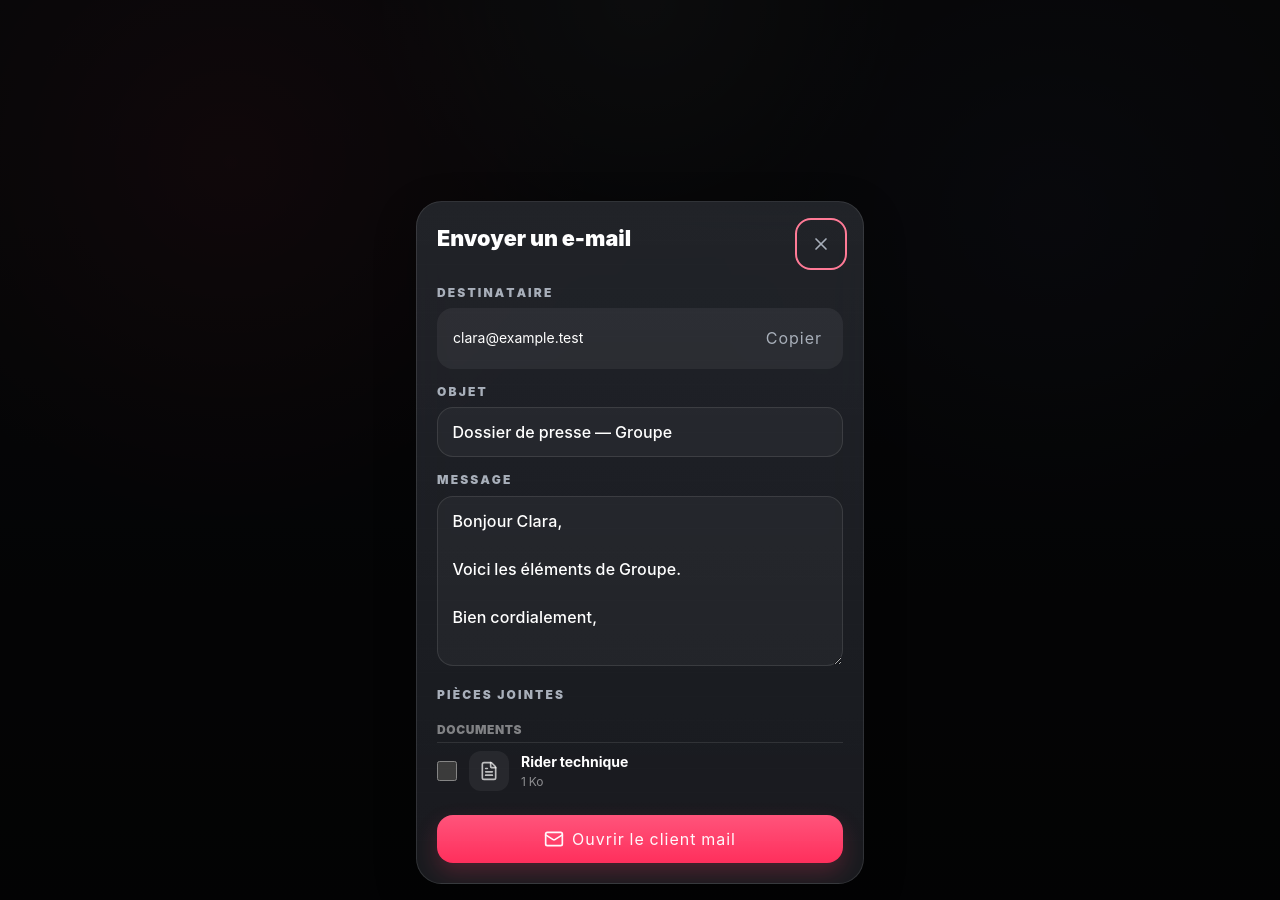
it: ContactEmailComposer › propose le lien EPK après un échec du partage natif
Click the checkbox labelled "Rider technique 1 Ko".
click(447, 771)  # box [437,761,457,781]
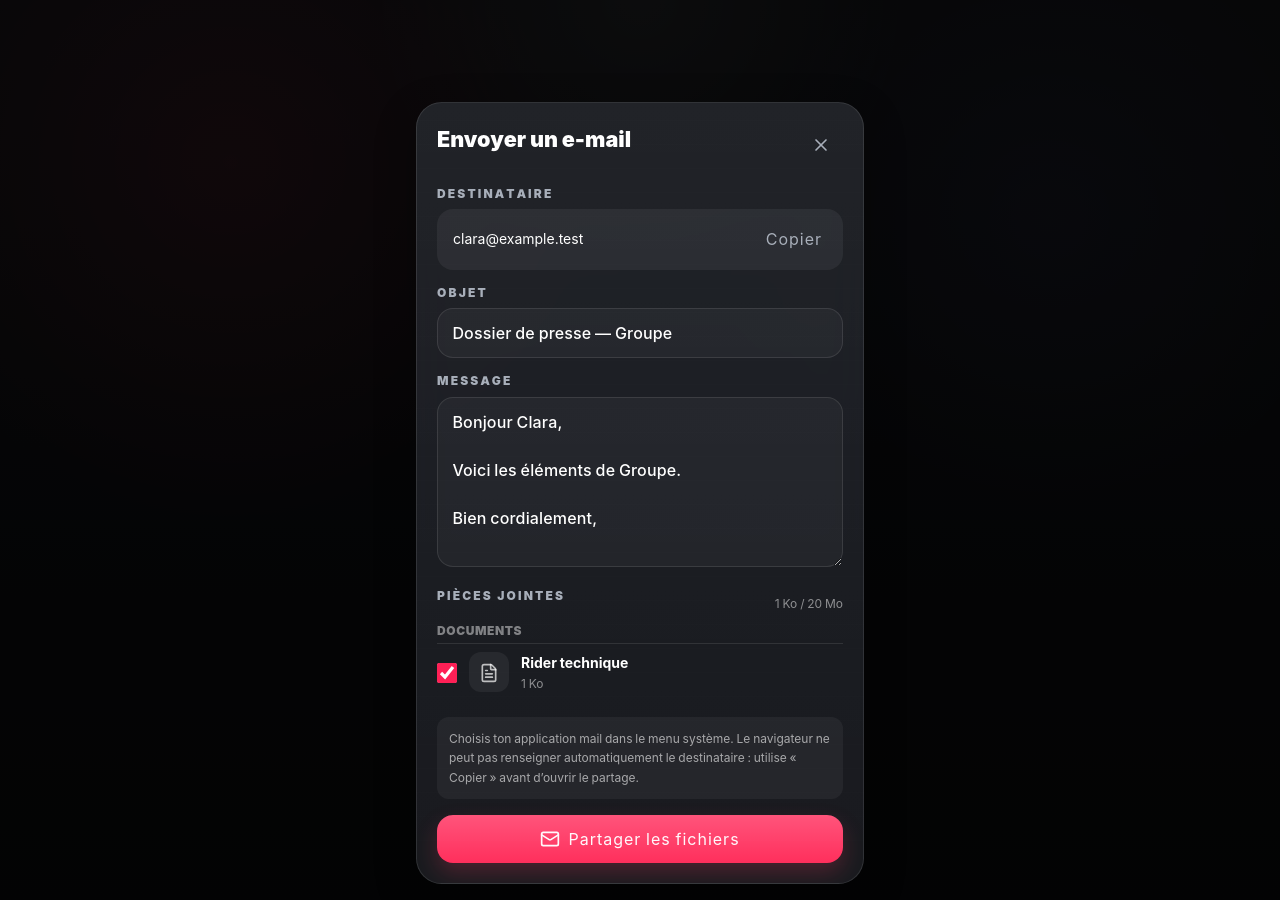
Click the button "Partager les fichiers".
click(640, 839)  # box [437,815,843,863]
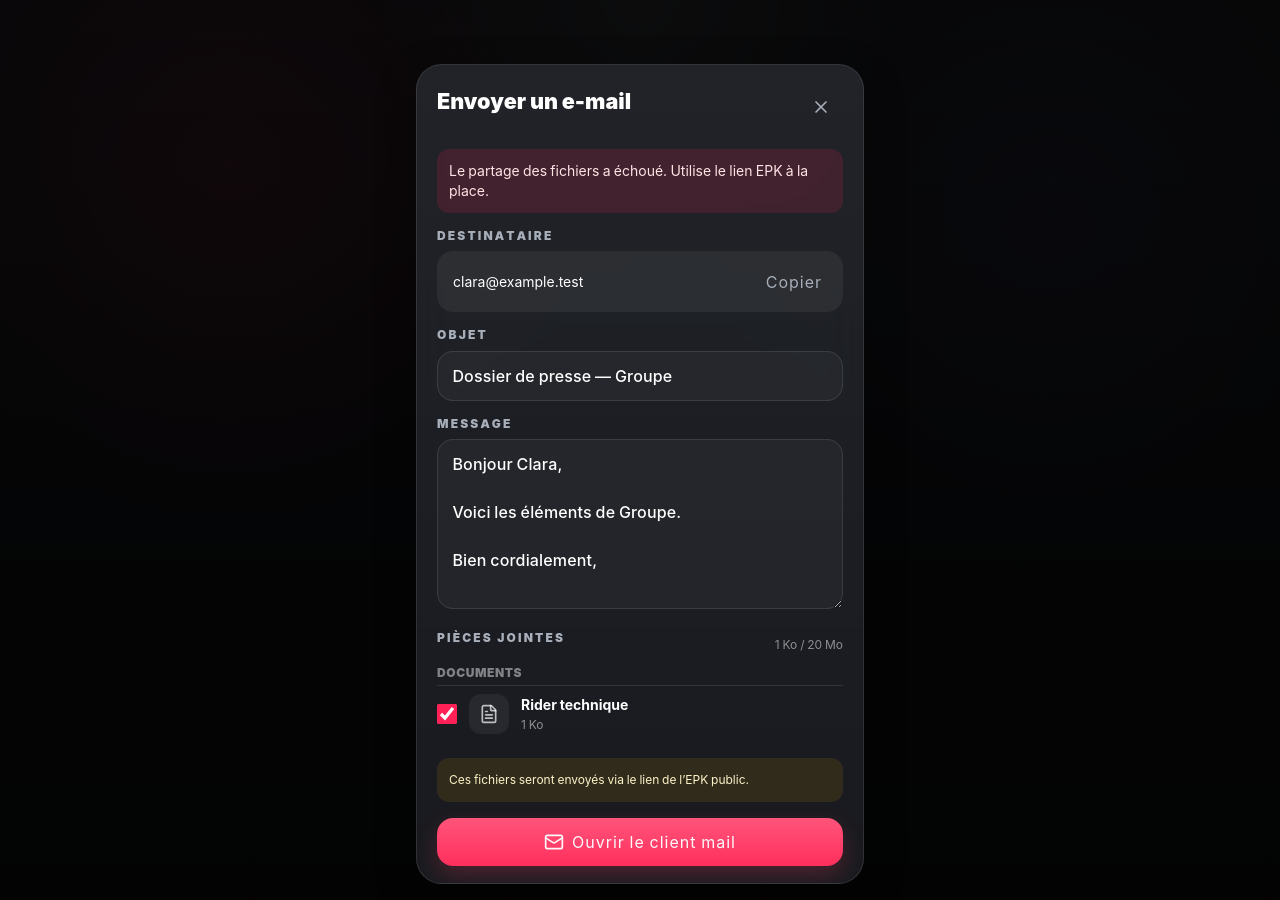
Check: the text "Le partage des fichiers a échoué. Utilise le lien EPK à la place." is shown, box [437,149,843,213]
